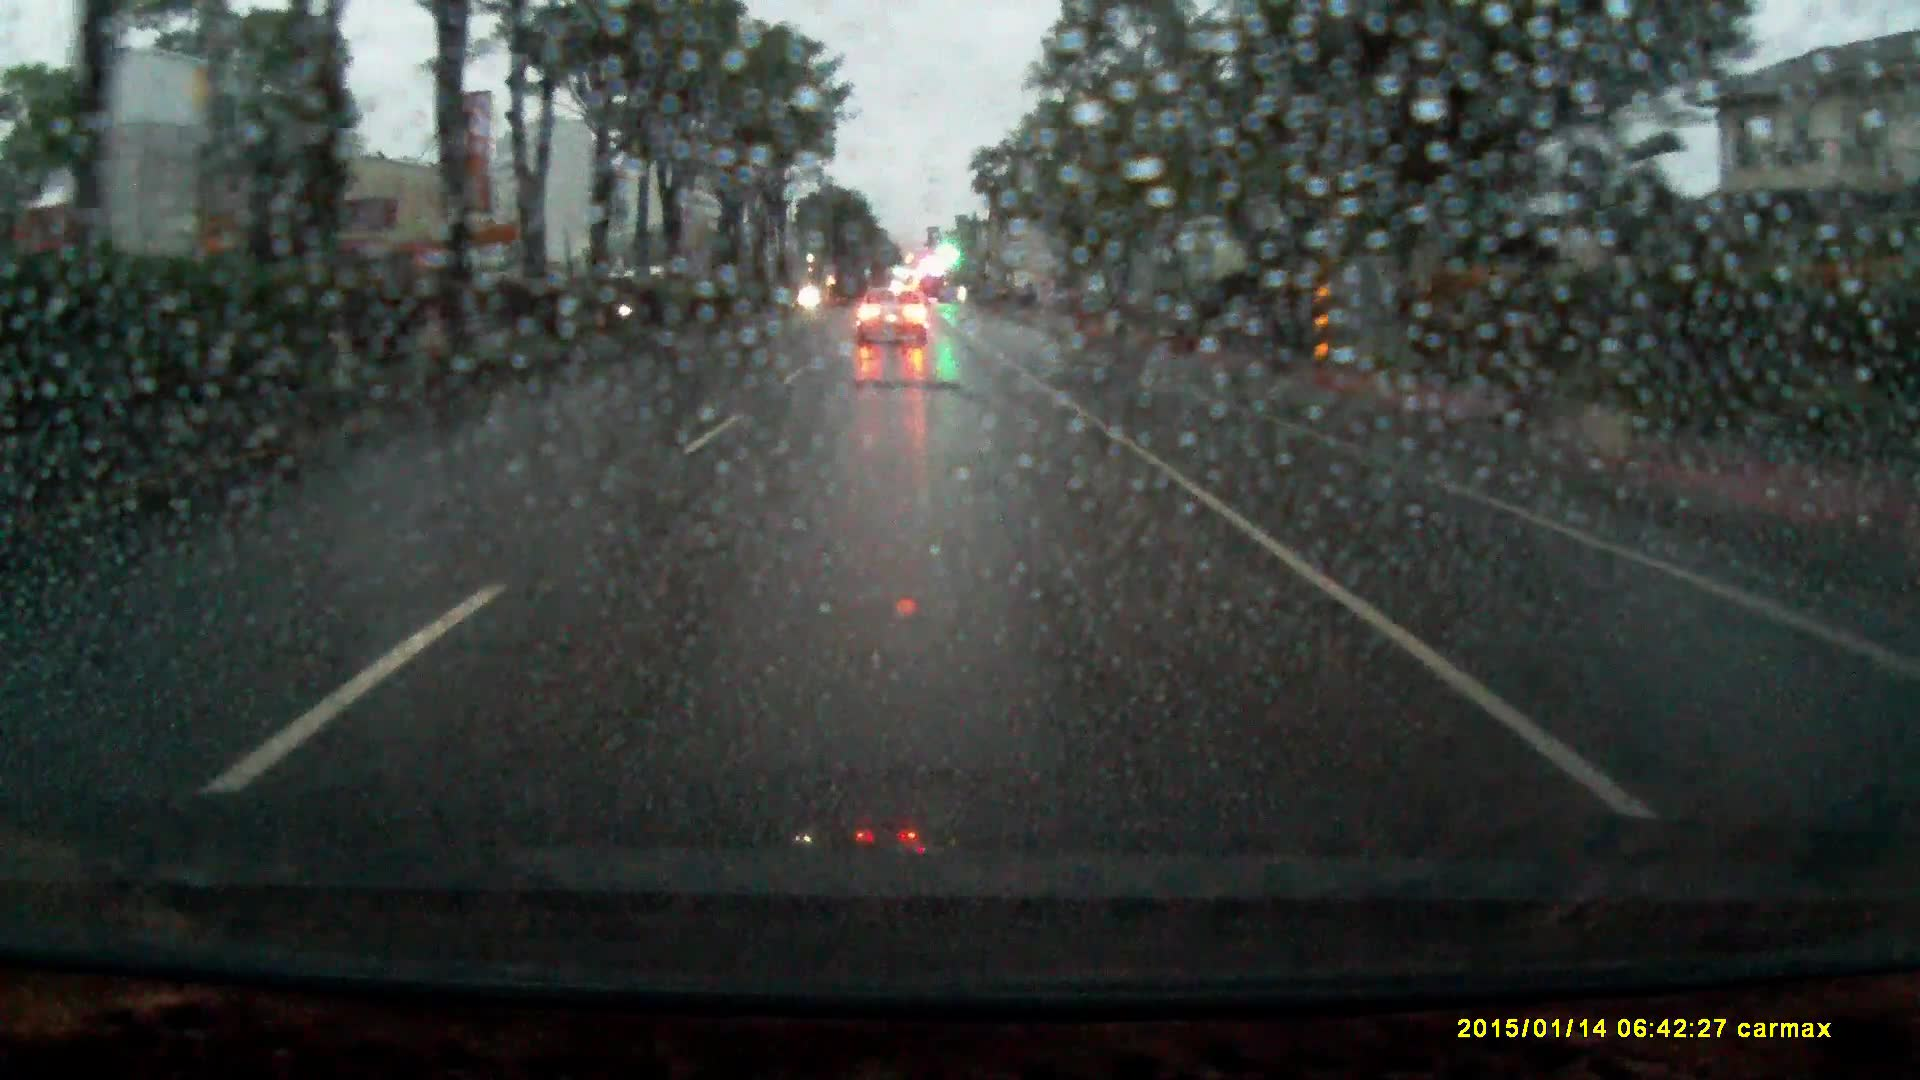vehicle: (856, 291, 928, 351)
